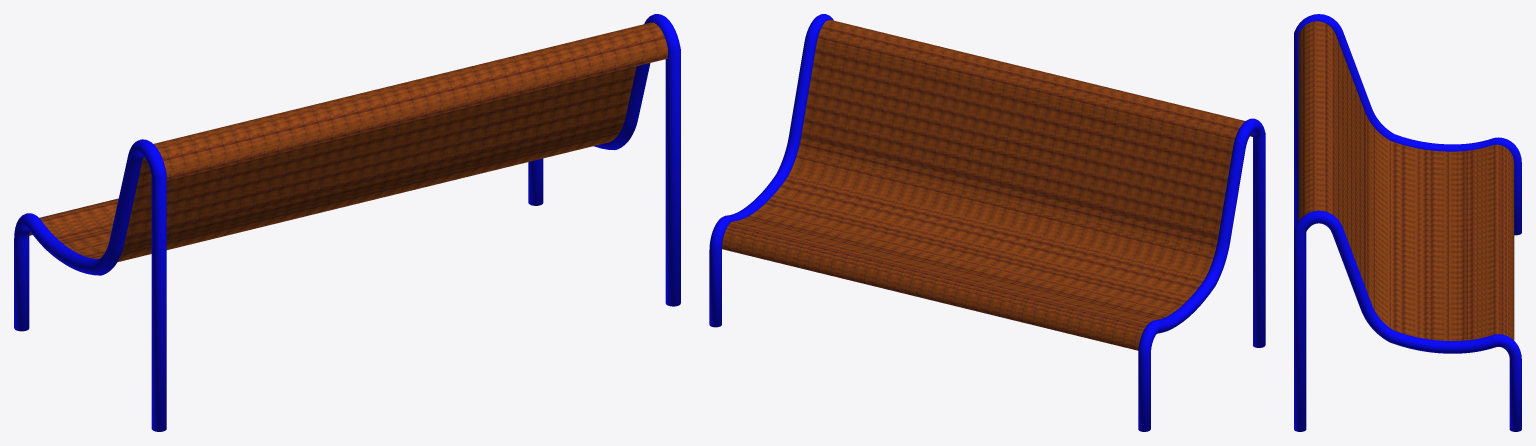
3 views of the same model, side by side, from view 1: azimuth 30°, elevation 25°; view 2: azimuth 150°, elevation 25°; view 3: azimuth 270°, elevation 25° (orthographic). The views are drawn at different scales.
Parts seen in each view (by area): view 1: mesh5_mesh5-geometry, mesh3_mesh3-geometry, mesh1_mesh1-geometry; view 2: mesh5_mesh5-geometry, mesh3_mesh3-geometry, mesh1_mesh1-geometry; view 3: mesh5_mesh5-geometry, mesh1_mesh1-geometry, mesh3_mesh3-geometry.
Boxes of the visible parts, x1,y1,x2,y2 form: mesh5_mesh5-geometry: [29, 22, 667, 262]; mesh3_mesh3-geometry: [14, 139, 166, 431]; mesh1_mesh1-geometry: [528, 14, 680, 306]; mesh5_mesh5-geometry: [722, 20, 1252, 350]; mesh3_mesh3-geometry: [1138, 118, 1265, 431]; mesh1_mesh1-geometry: [709, 14, 833, 327]; mesh5_mesh5-geometry: [1298, 21, 1514, 340]; mesh1_mesh1-geometry: [1294, 210, 1521, 431]; mesh3_mesh3-geometry: [1294, 14, 1521, 235].
Size of the model in its own units: 0.8212 by 0.4146 by 0.392.
